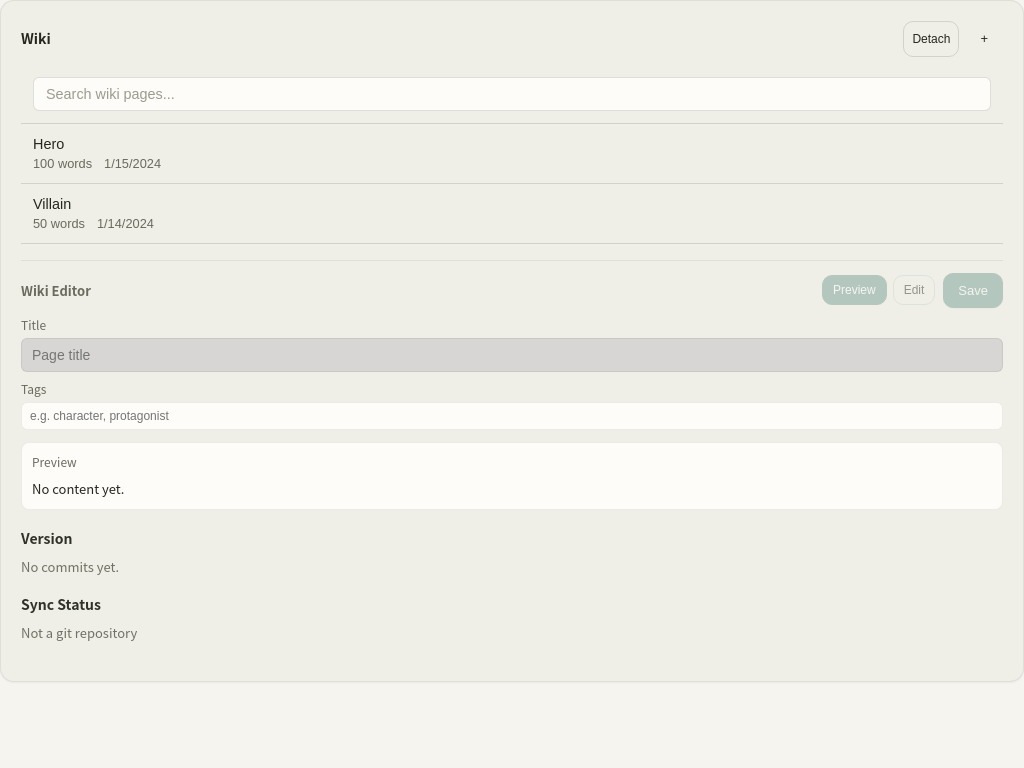
Test: Sidebar › opens create form when clicking + button
Click the button with test id "wiki-create-button": (984, 39) x1=965 y1=21 x2=1003 y2=56
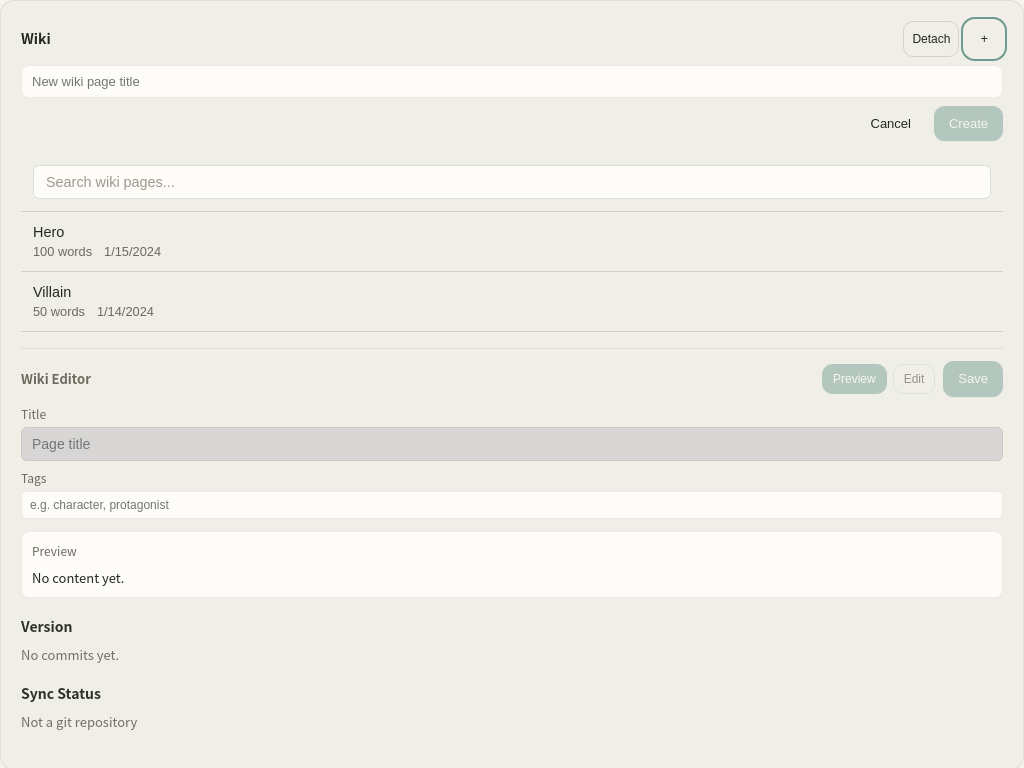
Result: the form with test id "create-wiki-dialog" is shown at x1=21 y1=64 x2=1003 y2=141
